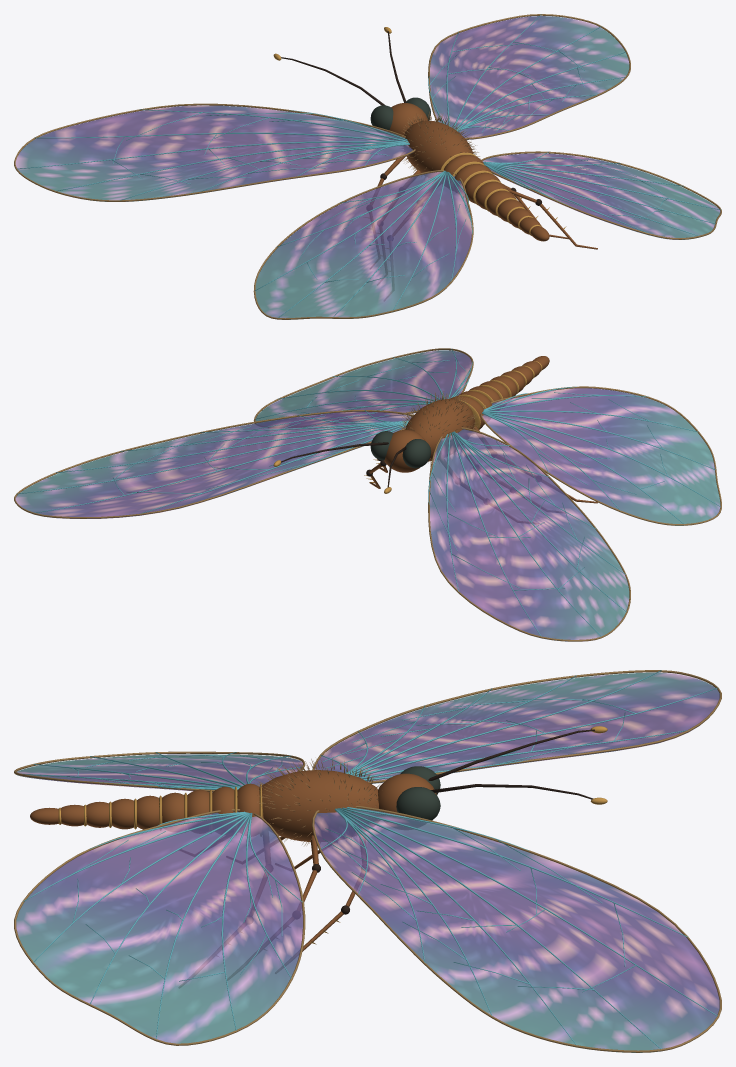
The model's file is borboleta_iridescente.glb.
3 renders of one model, top to bottom at view 1: azimuth 30°, elevation 25°; view 2: azimuth 150°, elevation 25°; view 3: azimuth 270°, elevation 25°, orthographic. The views are drawn at different scales.
Visible parts, largest first — view 1: Membrana_Anterior_L, Membrana_Posterior_L, Membrana_Anterior_R, Membrana_Posterior_R, Anatomia_Cobre_quitina, Asa_Anterior_L_Nervuras_ciano, Asa_Posterior_R_Nervuras_ciano, Asa_Posterior_L_Nervuras_ciano, Asa_Anterior_R_Nervuras_ciano, Margem, Margem.001, Margem.003 (+5 smaller); view 2: Membrana_Anterior_L, Membrana_Posterior_L, Membrana_Anterior_R, Membrana_Posterior_R, Anatomia_Cobre_quitina, Asa_Anterior_R_Nervuras_ciano, Asa_Anterior_L_Nervuras_ciano, Asa_Posterior_L_Nervuras_ciano, Margem.002, Asa_Posterior_R_Nervuras_ciano, Margem, Margem.001 (+5 smaller); view 3: Membrana_Anterior_R, Membrana_Posterior_R, Membrana_Anterior_L, Anatomia_Cobre_quitina, Membrana_Posterior_L, Asa_Anterior_R_Nervuras_ciano, Asa_Anterior_L_Nervuras_ciano, Asa_Posterior_R_Nervuras_ciano, Margem.002, Asa_Posterior_L_Nervuras_ciano, Margem, Margem.003 (+5 smaller).
Part boxes in pixels (x1,y1,x2,y2): Membrana_Anterior_L: [15, 105, 412, 201]; Membrana_Posterior_L: [255, 172, 471, 319]; Membrana_Anterior_R: [430, 16, 629, 139]; Membrana_Posterior_R: [482, 153, 720, 239]; Anatomia_Cobre_quitina: [377, 103, 597, 249]; Asa_Anterior_L_Nervuras_ciano: [17, 109, 409, 200]; Asa_Posterior_R_Nervuras_ciano: [483, 152, 720, 235]; Asa_Posterior_L_Nervuras_ciano: [254, 171, 472, 317]; Asa_Anterior_R_Nervuras_ciano: [428, 14, 626, 132]; Margem: [14, 103, 415, 201]; Margem.001: [253, 170, 473, 319]; Margem.003: [481, 151, 721, 239]; Membrana_Anterior_L: [430, 429, 629, 641]; Membrana_Posterior_L: [482, 388, 720, 525]; Membrana_Anterior_R: [15, 412, 411, 518]; Membrana_Posterior_R: [255, 350, 471, 423]; Anatomia_Cobre_quitina: [369, 356, 597, 503]; Asa_Anterior_R_Nervuras_ciano: [17, 410, 408, 513]; Asa_Anterior_L_Nervuras_ciano: [428, 431, 626, 636]; Asa_Posterior_L_Nervuras_ciano: [482, 386, 720, 523]; Margem.002: [14, 410, 413, 518]; Asa_Posterior_R_Nervuras_ciano: [255, 348, 472, 419]; Margem: [428, 427, 630, 641]; Margem.001: [480, 386, 721, 525]; Membrana_Anterior_R: [314, 808, 719, 1052]; Membrana_Posterior_R: [16, 811, 302, 1043]; Membrana_Anterior_L: [315, 672, 719, 783]; Anatomia_Cobre_quitina: [30, 770, 436, 951]; Membrana_Posterior_L: [15, 754, 302, 792]; Asa_Anterior_R_Nervuras_ciano: [320, 807, 717, 1049]; Asa_Anterior_L_Nervuras_ciano: [320, 670, 717, 780]; Asa_Posterior_R_Nervuras_ciano: [23, 811, 302, 1038]; Margem.002: [312, 806, 721, 1052]; Asa_Posterior_L_Nervuras_ciano: [23, 752, 301, 789]; Margem: [312, 670, 721, 783]; Margem.003: [14, 809, 305, 1045].
Bounding box in the file's own units: 6.83 × 1.32 × 5.36.
